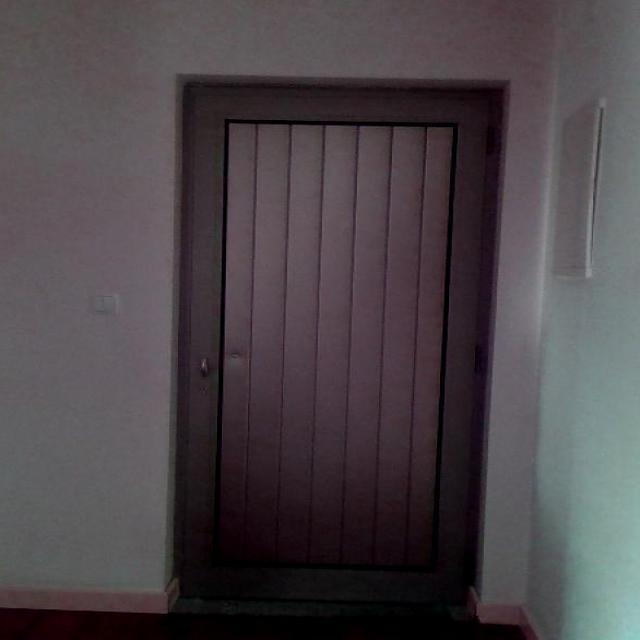door: (174, 79, 501, 608)
